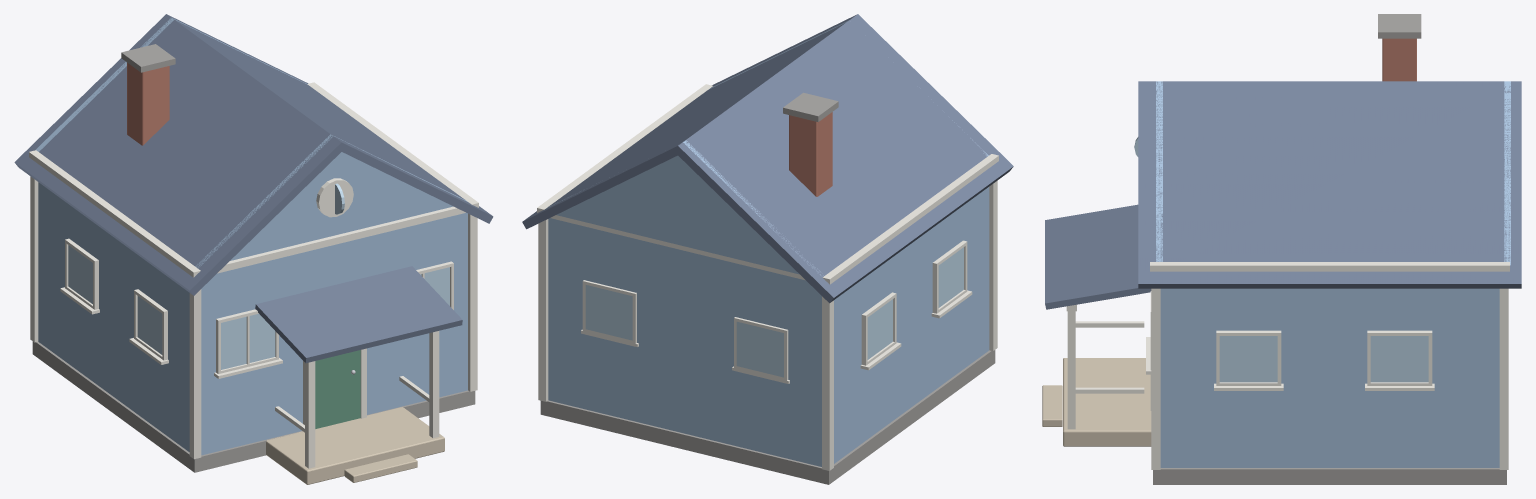
File: HouseBlueModel.glb
3 renders of one model, left to right at view 1: azimuth 30°, elevation 25°; view 2: azimuth 150°, elevation 25°; view 3: azimuth 270°, elevation 25°, orthographic. The views are drawn at different scales.
Visible parts, largest first — view 1: HouseBlueModel; view 2: HouseBlueModel; view 3: HouseBlueModel.
Part boxes in pixels (bbox=[...]): HouseBlueModel: bbox=[14, 14, 493, 484]; HouseBlueModel: bbox=[522, 14, 1013, 484]; HouseBlueModel: bbox=[1042, 14, 1521, 484].
Bounding box in the file's own units: 6.6 × 6.61 × 8.26.
